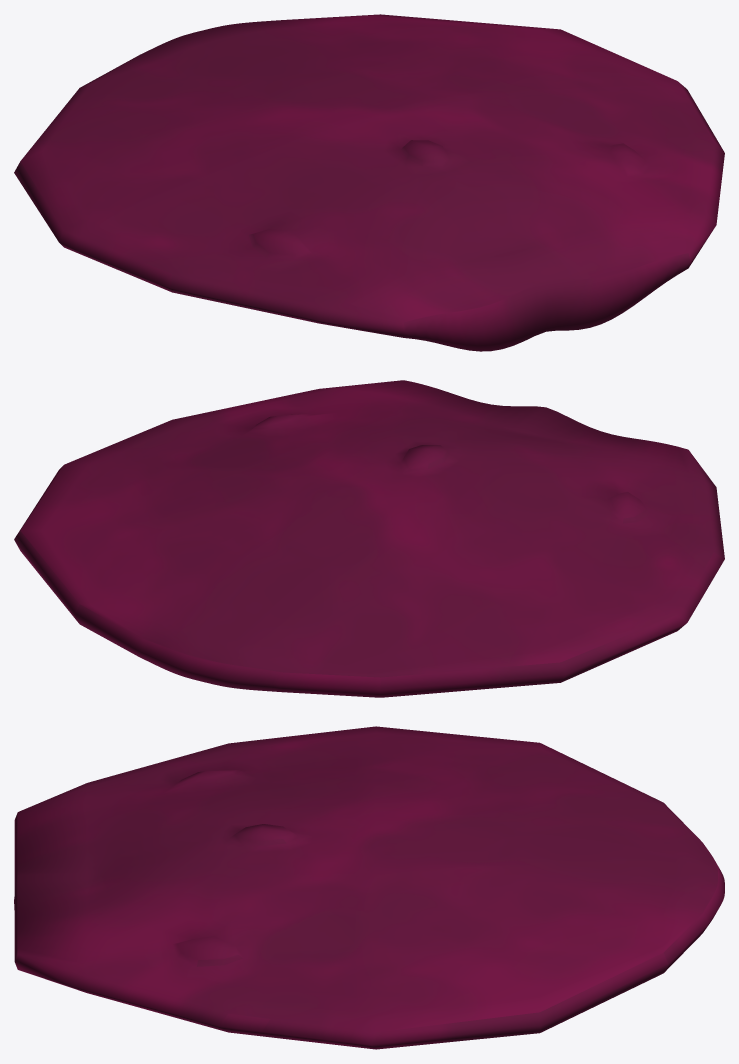
File: wall_mushroom.fbx
3 renders of one model, top to bottom at view 1: azimuth 30°, elevation 25°; view 2: azimuth 150°, elevation 25°; view 3: azimuth 270°, elevation 25°, orthographic. The views are drawn at different scales.
Visible parts, largest first — view 1: Plane; view 2: Plane; view 3: Plane.
Part boxes in pixels (x1,y1,x2,y2): Plane: (14, 14, 724, 351); Plane: (14, 380, 724, 697); Plane: (14, 726, 724, 1049).
Bounding box in the file's own units: 297 × 51.52 × 285.
